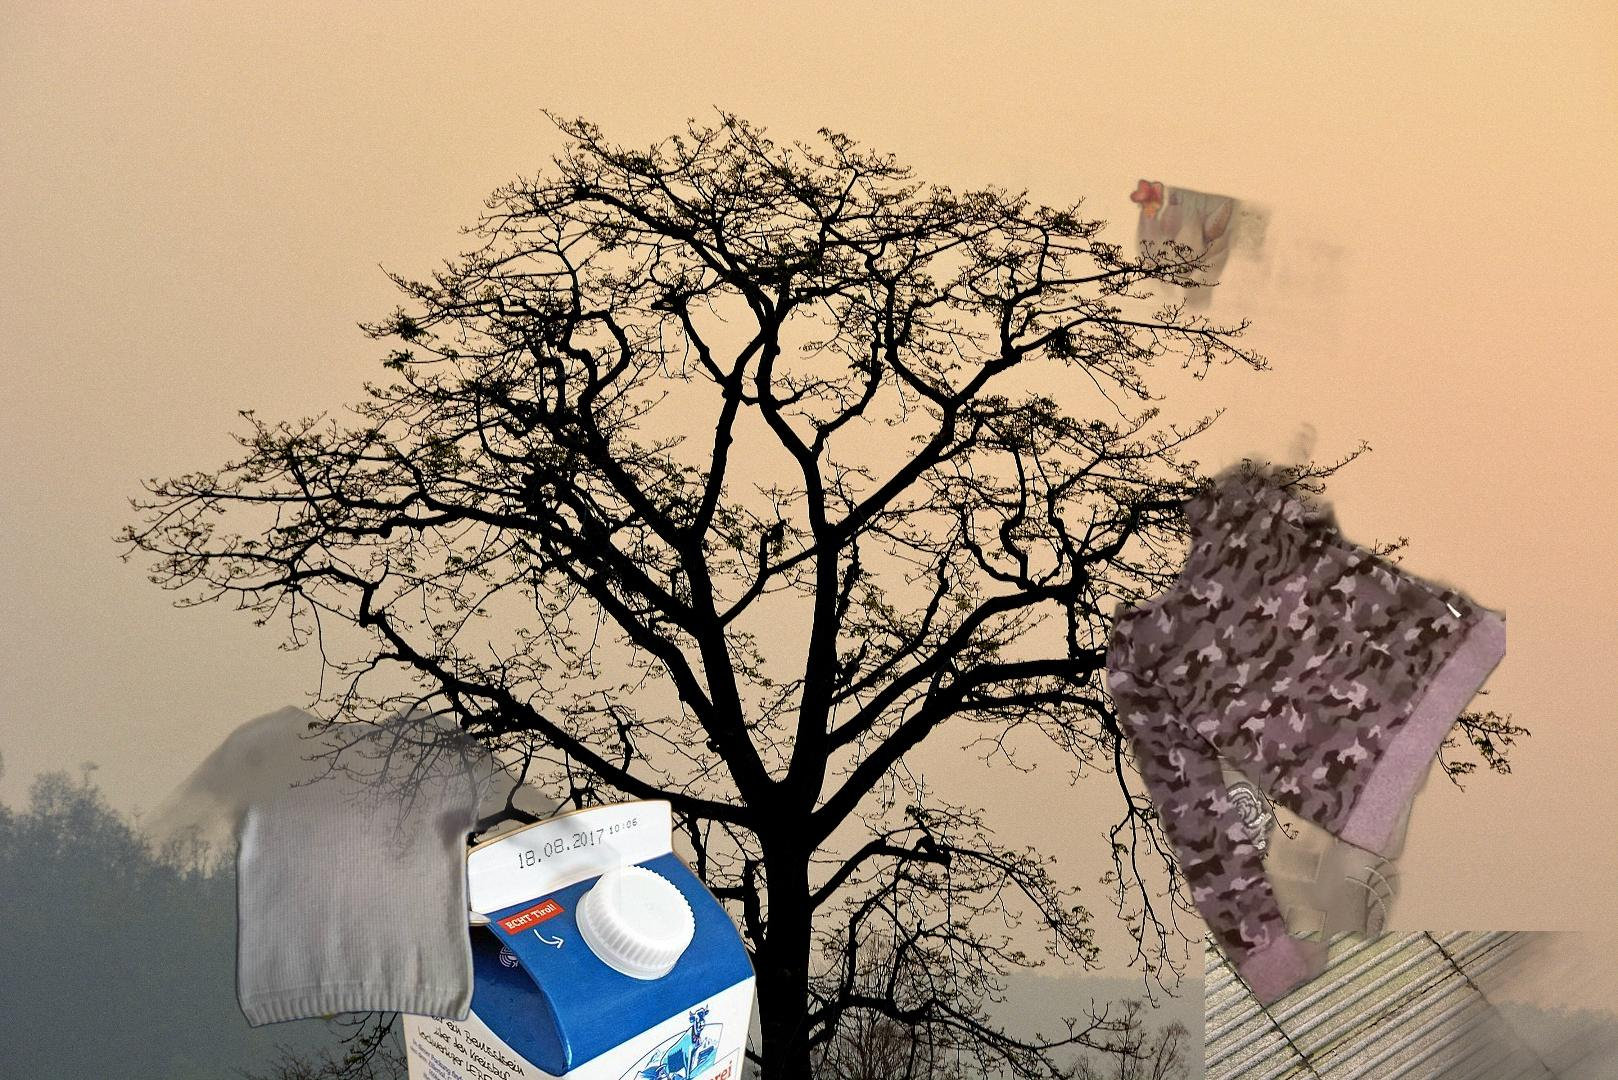clothes: (1106, 413, 1506, 1080), (88, 642, 620, 1037)
paper: (875, 81, 1367, 460)
plastic-bottles: (1205, 931, 1618, 1080)
shoes: (284, 853, 494, 939)
trashbox-cardboard: (392, 794, 761, 1080)
